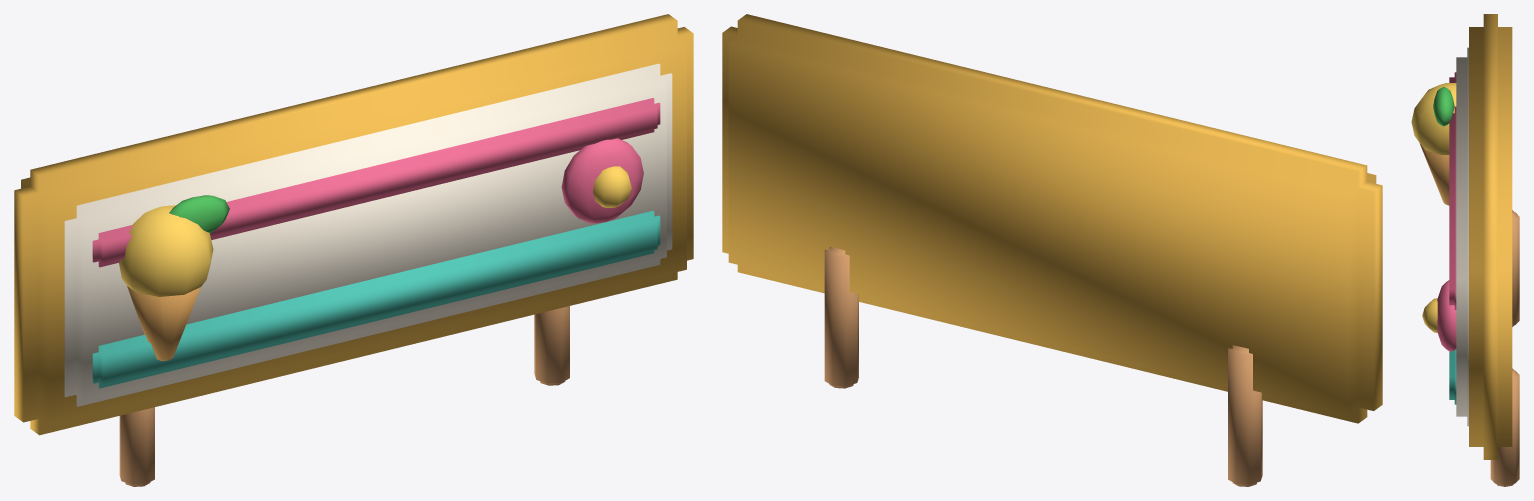
Rendered from CartPaintedSignUpgrade.fbx.
3 views of the same model, side by side, from view 1: azimuth 30°, elevation 25°; view 2: azimuth 150°, elevation 25°; view 3: azimuth 270°, elevation 25° (orthographic). The views are drawn at different scales.
Visible parts, largest first — view 1: CartPaintedSignUpgrade; view 2: CartPaintedSignUpgrade; view 3: CartPaintedSignUpgrade.
Part boxes in pixels (<box>): CartPaintedSignUpgrade: <box>14,14,693,486</box>; CartPaintedSignUpgrade: <box>722,14,1382,486</box>; CartPaintedSignUpgrade: <box>1411,14,1519,486</box>.
Size of the model in its own units: 1.68 by 0.82 by 0.3.
